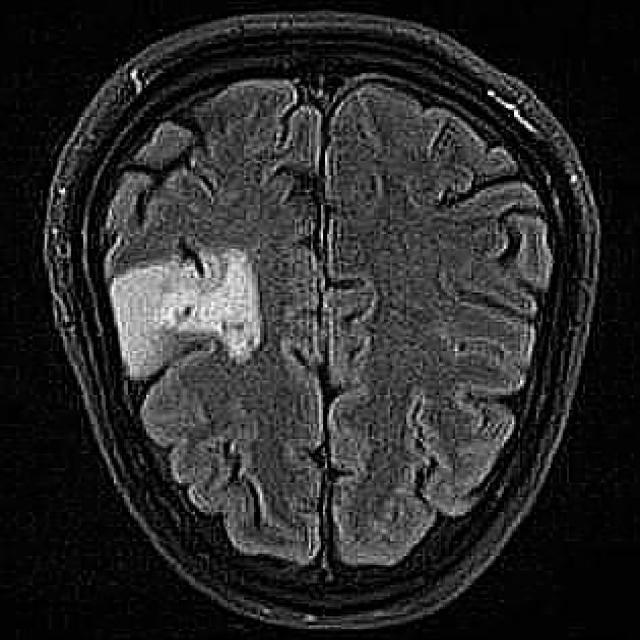Tumor-Cell: (123, 251, 271, 400)
